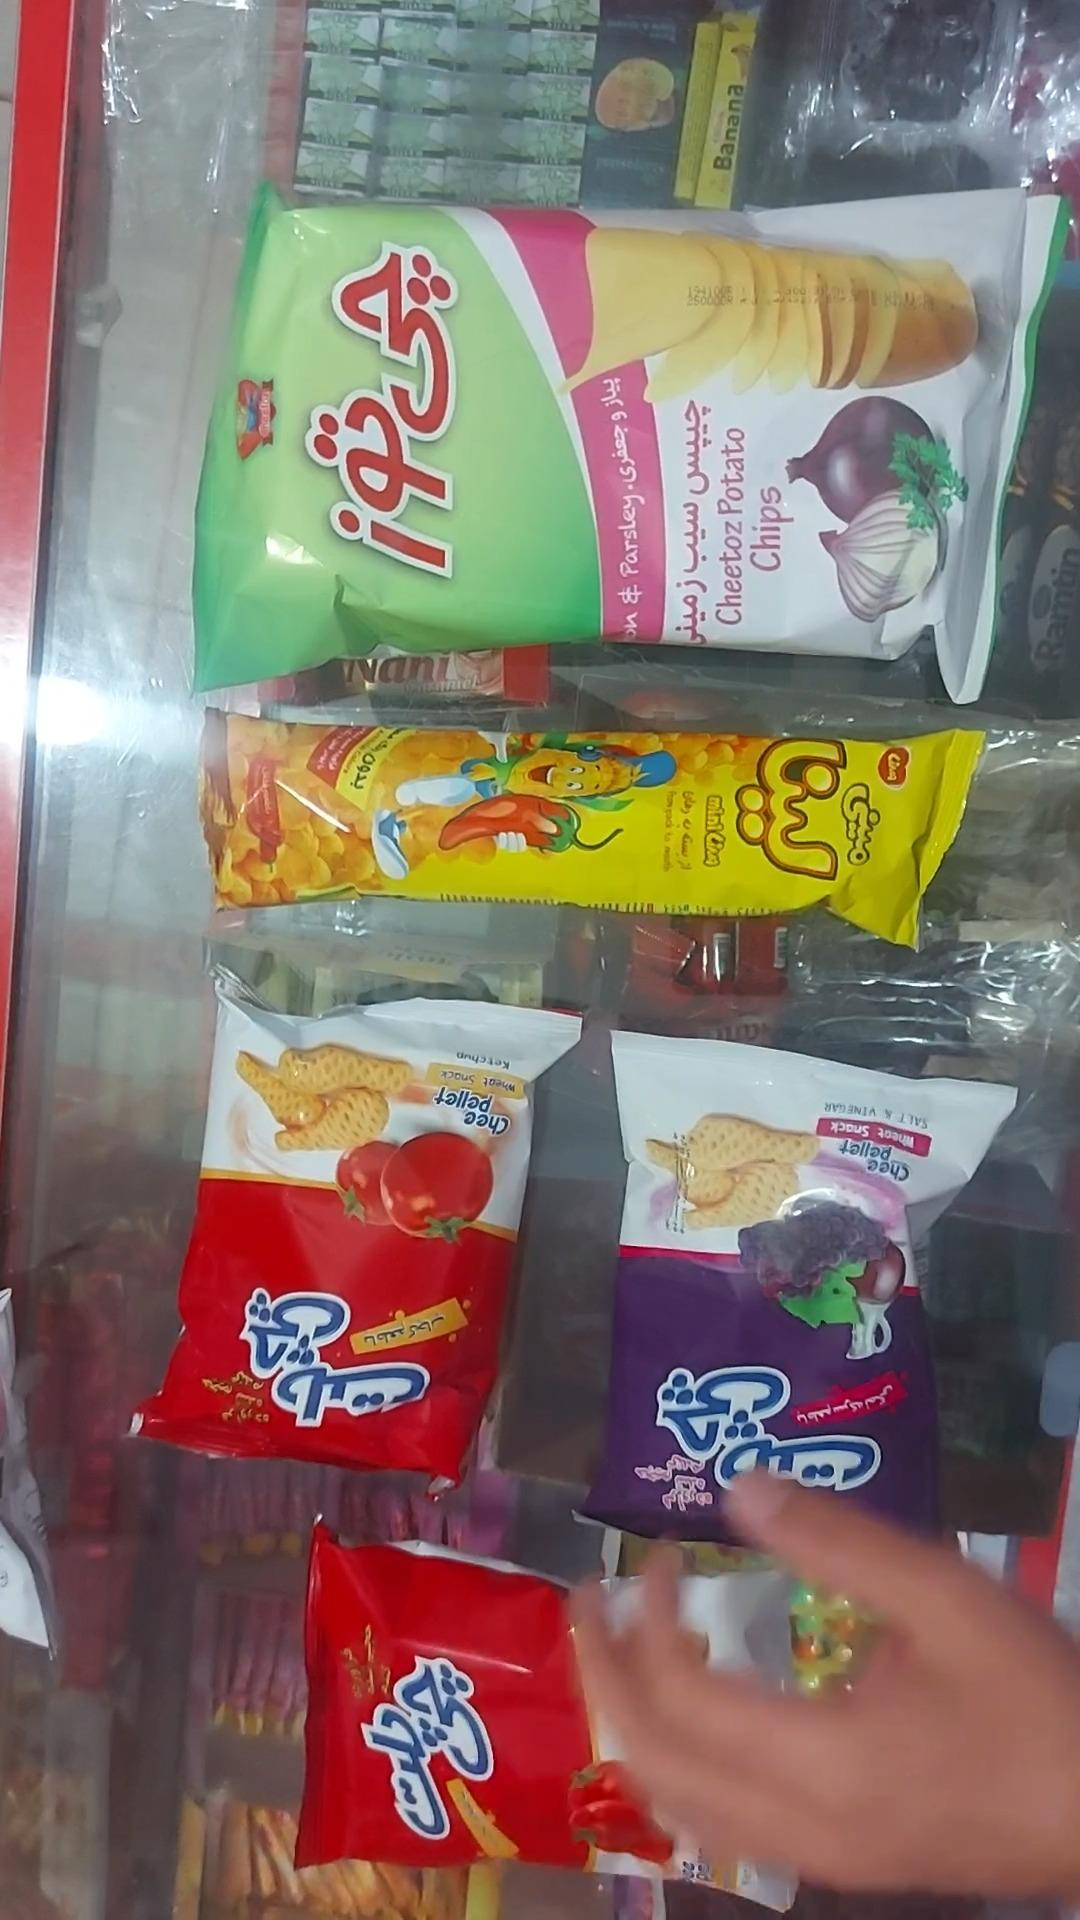Chee pellet ketchup: (128, 967, 583, 1499), (294, 1522, 796, 1912), (680, 1571, 796, 1695)
Chee pellet vinegar: (576, 1031, 1019, 1545)
Cheetoz onion and parsley chips: (191, 185, 1068, 707)
Mini Lina: (198, 709, 986, 948)
